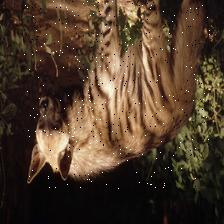hyena: (24, 0, 211, 189)
